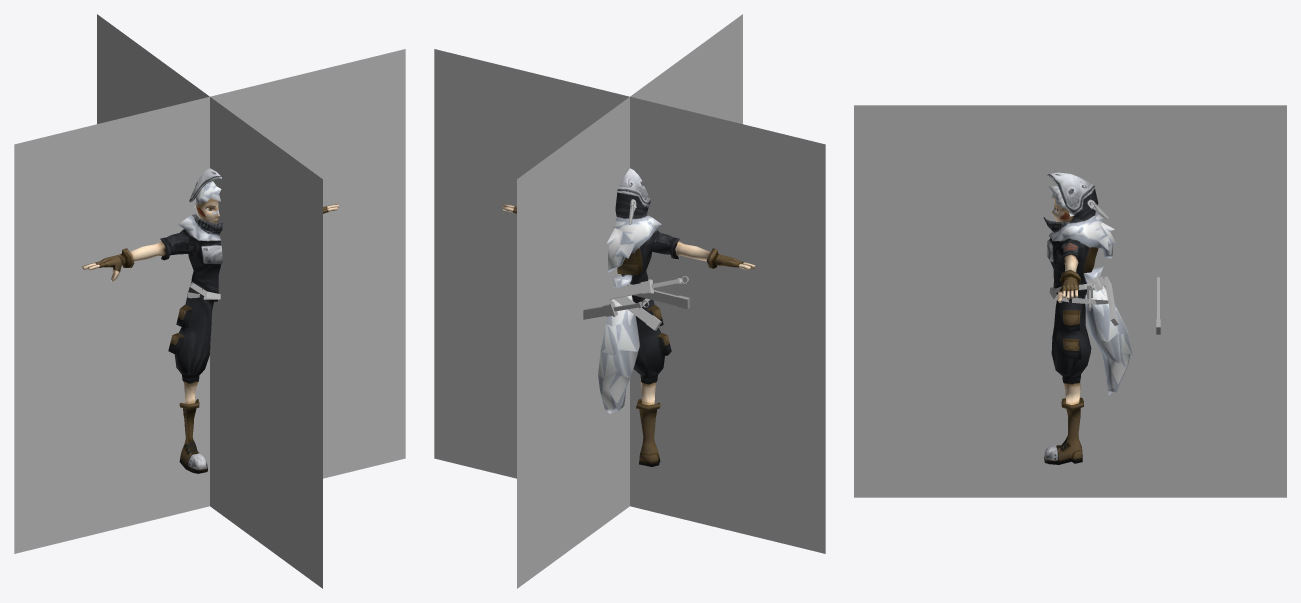
Rendered from Scout_Class.fbx.
The picture shows the model from 3 angles, left to right: view 1: azimuth 30°, elevation 25°; view 2: azimuth 150°, elevation 25°; view 3: azimuth 270°, elevation 25°; orthographic projection. The views are drawn at different scales.
Parts seen in each view (by area): view 1: FrontImage, SideImage, SarenScout2; view 2: FrontImage, SideImage, SarenScout2, Sheath, SheathBelt; view 3: SideImage, SarenScout2, SheathBelt1.
Part boxes in pixels (x1,y1,x2,y2): FrontImage: [14, 49, 405, 553]; SideImage: [97, 14, 322, 588]; SarenScout2: [82, 168, 338, 473]; FrontImage: [434, 49, 825, 553]; SideImage: [517, 14, 742, 588]; SarenScout2: [503, 168, 755, 466]; Sheath: [627, 284, 689, 309]; SheathBelt: [613, 287, 661, 330]; SideImage: [854, 105, 1286, 497]; SarenScout2: [1043, 172, 1132, 464]; SheathBelt1: [1049, 276, 1118, 325].
Size of the model in its own units: 24 by 24 by 24.
